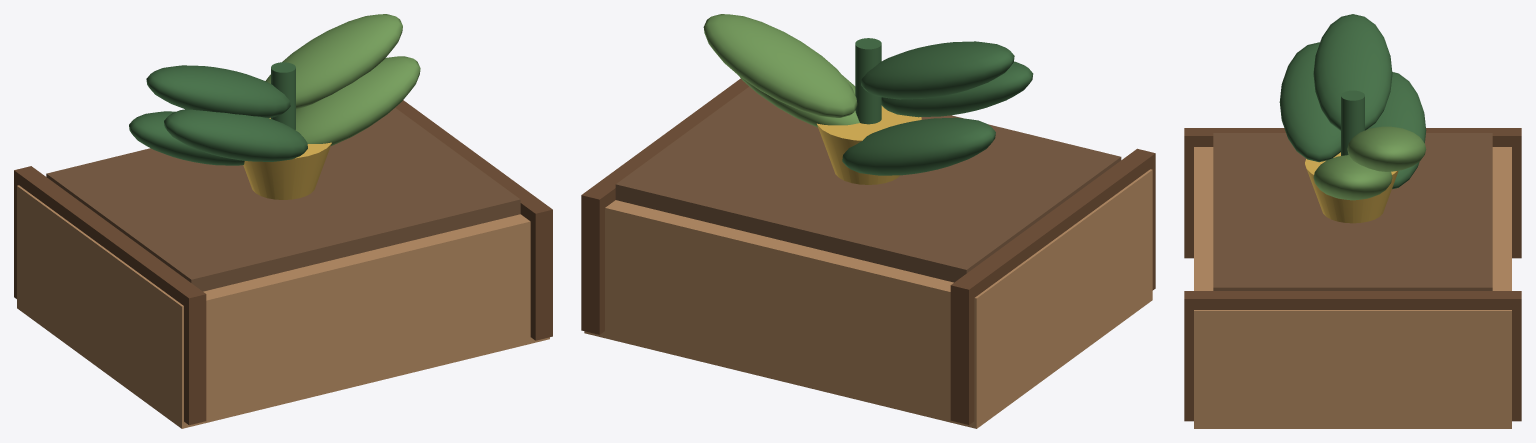
The model's file is plant-carrot.glb.
3 renders of one model, left to right at view 1: azimuth 30°, elevation 25°; view 2: azimuth 150°, elevation 25°; view 3: azimuth 270°, elevation 25°, orthographic. The views are drawn at different scales.
Parts seen in each view (by area): view 1: wood box, soil box, trim box (×2), leaf sphere (×3), lightLeaf sphere (×2), gold cone, leaf cylinder; view 2: wood box, soil box, leaf sphere (×3), trim box (×2), lightLeaf sphere (×2), gold cone, leaf cylinder; view 3: wood box, soil box, leaf sphere (×3), trim box (×2), lightLeaf sphere (×2), gold cone, leaf cylinder.
Part boxes in pixels (x1,y1,x2,y2): wood box: [17, 185, 549, 428]; soil box: [46, 108, 520, 291]; trim box (×2): [14, 100, 552, 425]; leaf sphere (×3): [129, 65, 307, 165]; lightLeaf sphere (×2): [265, 14, 420, 145]; gold cone: [243, 118, 331, 199]; leaf cylinder: [271, 62, 295, 130]; wood box: [584, 169, 1152, 428]; soil box: [615, 86, 1121, 282]; leaf sphere (×3): [842, 41, 1033, 175]; trim box (×2): [581, 78, 1155, 424]; lightLeaf sphere (×2): [703, 14, 859, 127]; gold cone: [817, 105, 921, 184]; leaf cylinder: [855, 38, 881, 124]; wood box: [1194, 147, 1511, 428]; soil box: [1213, 133, 1492, 290]; leaf sphere (×3): [1279, 14, 1426, 189]; trim box (×2): [1184, 128, 1521, 421]; lightLeaf sphere (×2): [1313, 126, 1426, 200]; gold cone: [1305, 152, 1398, 223]; leaf cylinder: [1341, 90, 1364, 155].
Bounding box in the file's own units: 0.85 × 0.6162 × 0.7.
